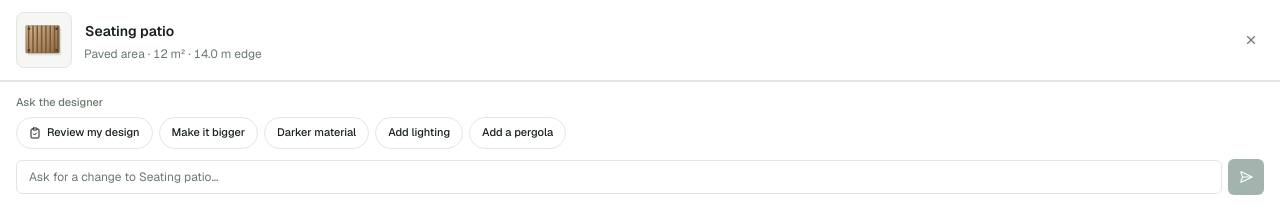
Test: the element the request is about › deselects the element rather than keeping a second opinion
The image size is (1280, 212).
Click the button with test id "agent-focus-clear". click: [1251, 40]
box: [1238, 27, 1264, 53]
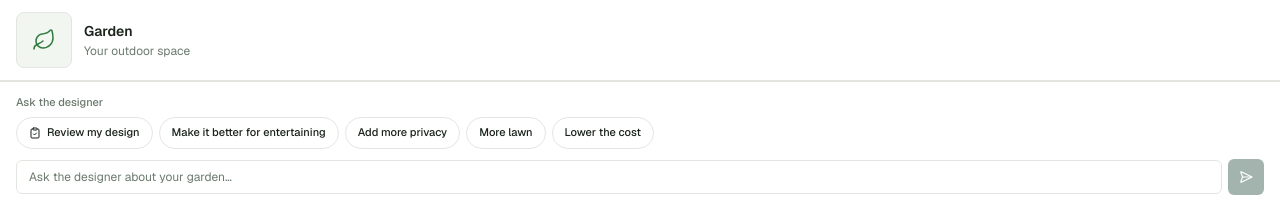
Check: the header with test id "agent-focus" is gone
